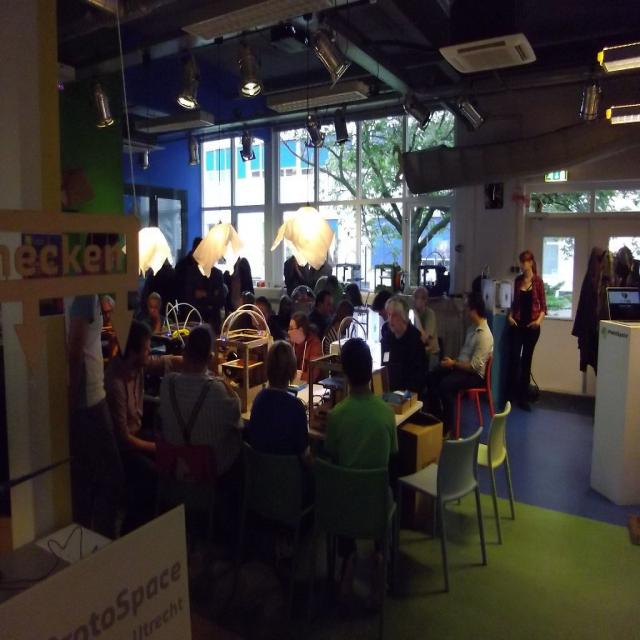chair: (397, 426, 487, 593), (236, 438, 318, 620), (313, 454, 398, 629), (475, 400, 516, 538), (455, 354, 496, 439)
desk: (244, 381, 424, 565)
person: (65, 294, 126, 538), (104, 319, 160, 530), (244, 339, 314, 488), (324, 338, 399, 470), (428, 292, 494, 438), (508, 250, 548, 408), (380, 294, 428, 401)
tv: (607, 288, 640, 322)
